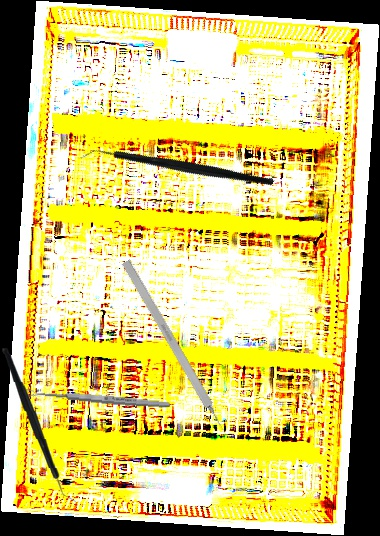Chopper: (78, 89, 276, 250), (2, 345, 76, 505)
Hook Surgical: (121, 259, 233, 443)
Surgical Spoon: (22, 387, 171, 410)
